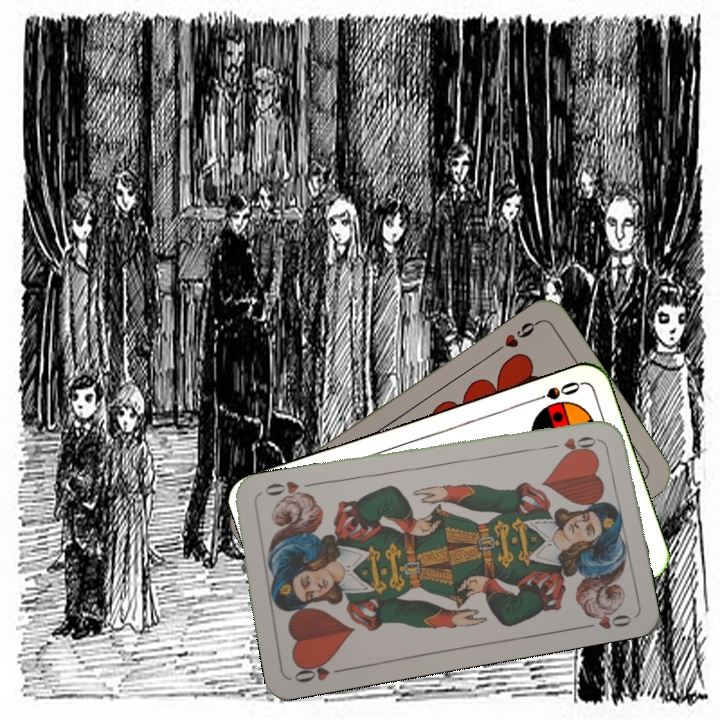H9: (490, 316, 542, 356)
HO: (290, 656, 348, 686), (543, 432, 602, 452)
SO: (526, 377, 583, 406)
